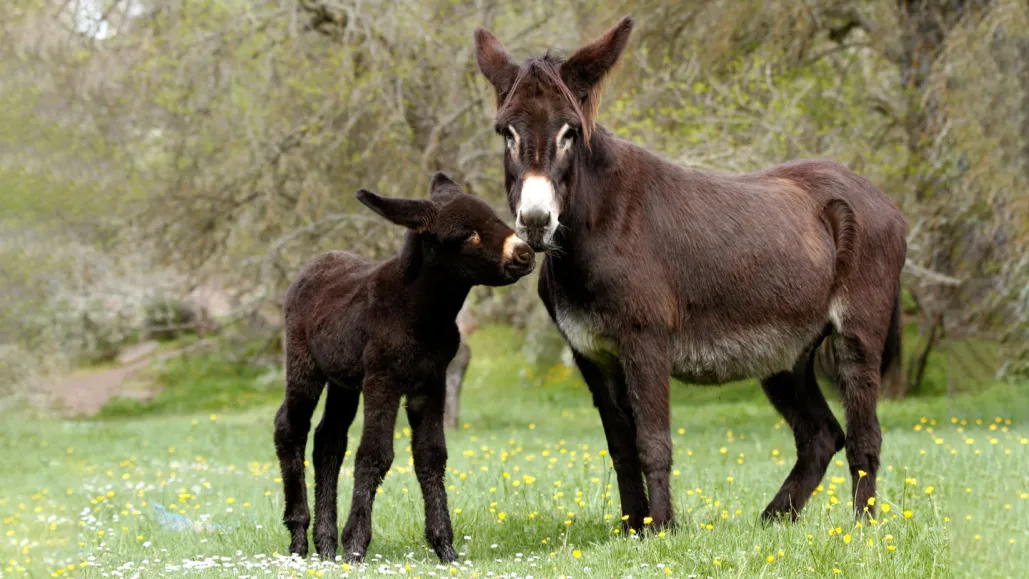donkey: (448, 18, 945, 540), (245, 157, 554, 561)
